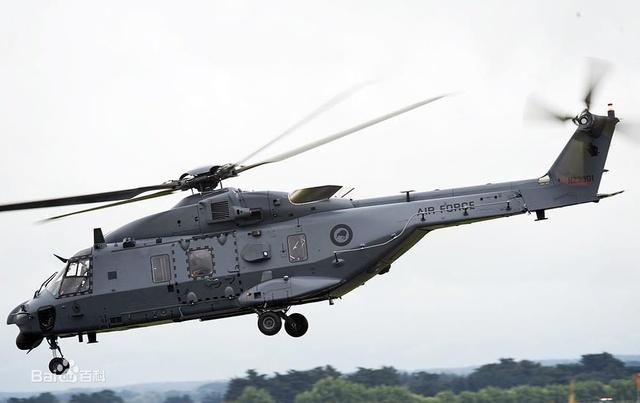airplane: (5, 99, 625, 358)
